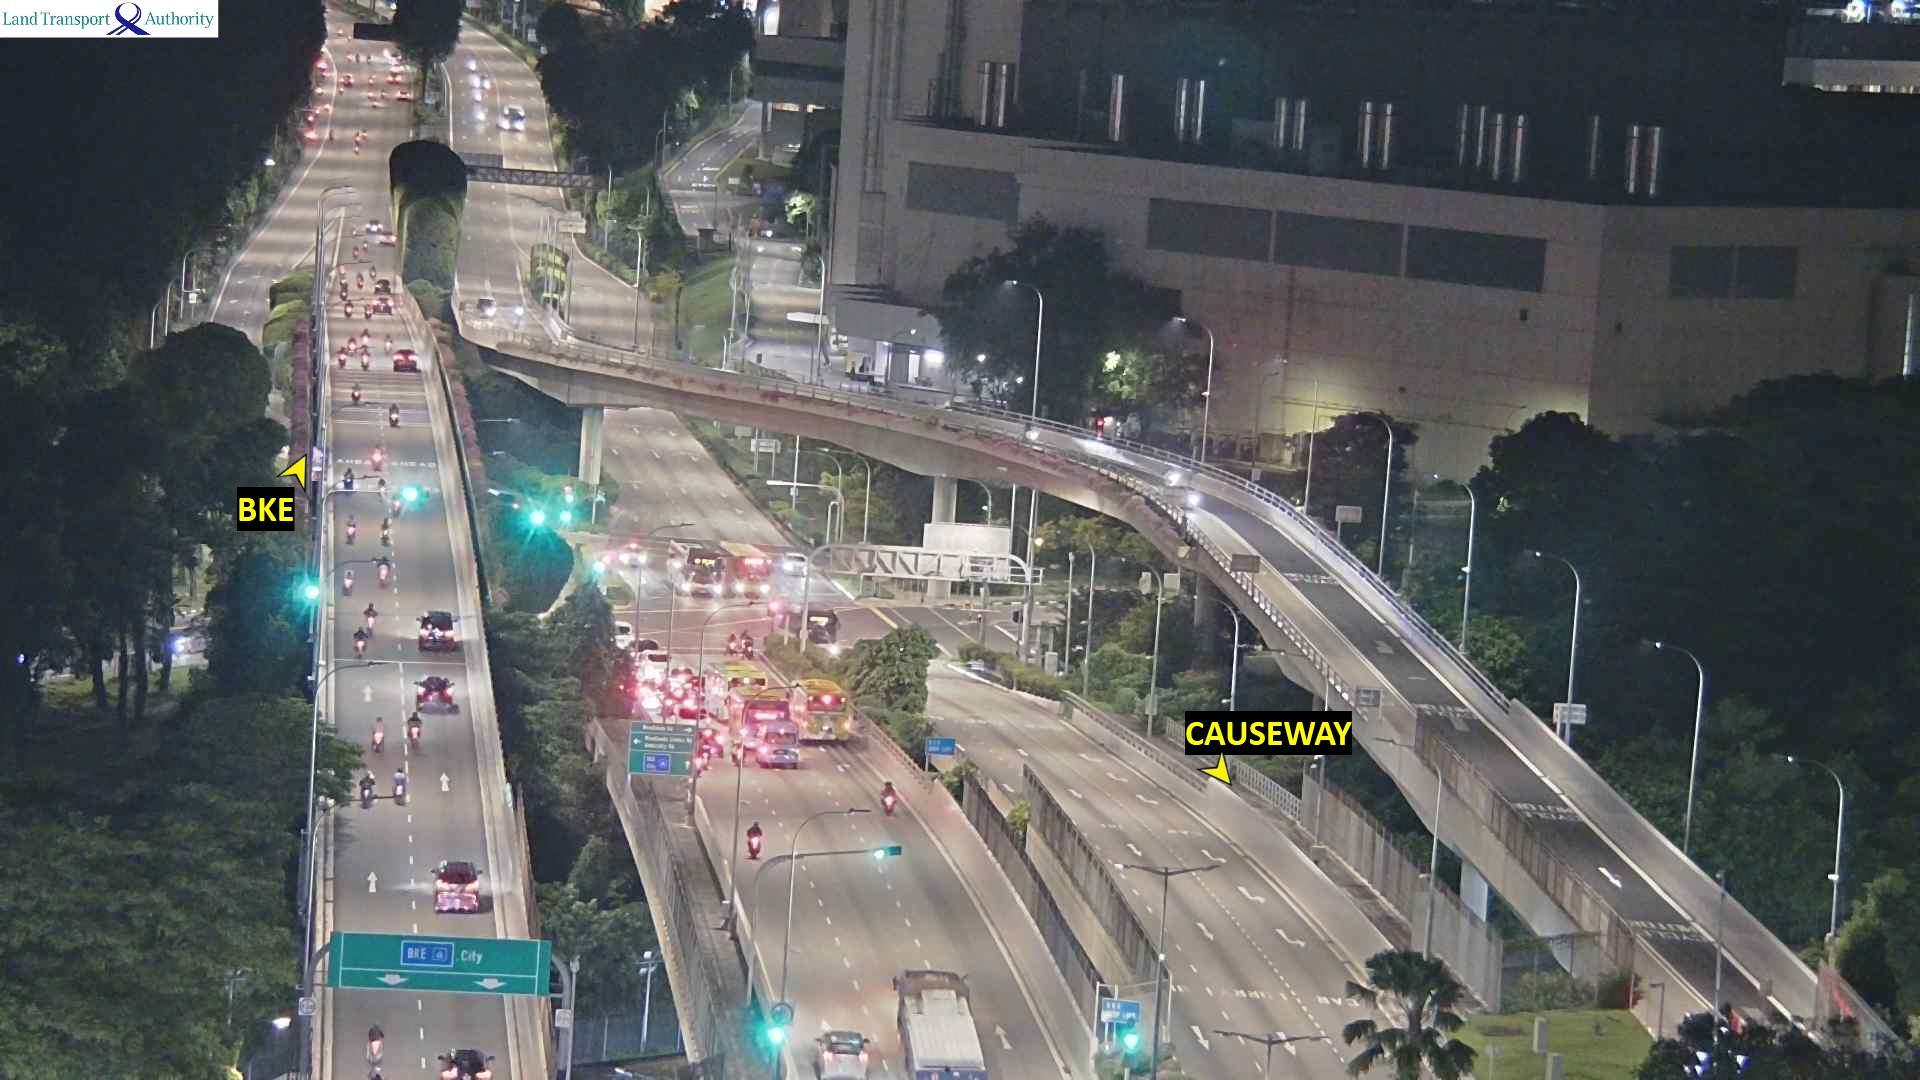vehicle-causeway-johor: (480, 299, 497, 315)
vehicle-causeway-singapore: (893, 972, 985, 1080), (796, 680, 856, 745), (737, 702, 796, 738), (439, 1050, 492, 1080), (436, 889, 491, 915), (822, 1033, 874, 1059), (434, 860, 487, 886), (436, 865, 475, 897), (758, 749, 798, 771), (419, 612, 451, 640), (419, 630, 455, 654), (632, 644, 665, 669), (423, 678, 448, 705), (669, 704, 705, 721), (397, 353, 423, 373), (406, 716, 422, 746), (745, 827, 761, 856), (881, 781, 895, 808), (361, 771, 373, 804), (372, 717, 382, 749), (364, 1026, 376, 1047), (363, 626, 378, 642), (361, 600, 372, 621), (393, 406, 402, 429), (347, 514, 356, 537), (384, 520, 393, 542), (381, 558, 390, 579), (345, 467, 355, 488), (397, 773, 404, 798), (343, 578, 351, 597), (347, 338, 356, 353), (361, 359, 372, 372), (338, 349, 345, 365), (353, 384, 361, 400), (364, 327, 369, 343), (385, 334, 390, 349)
